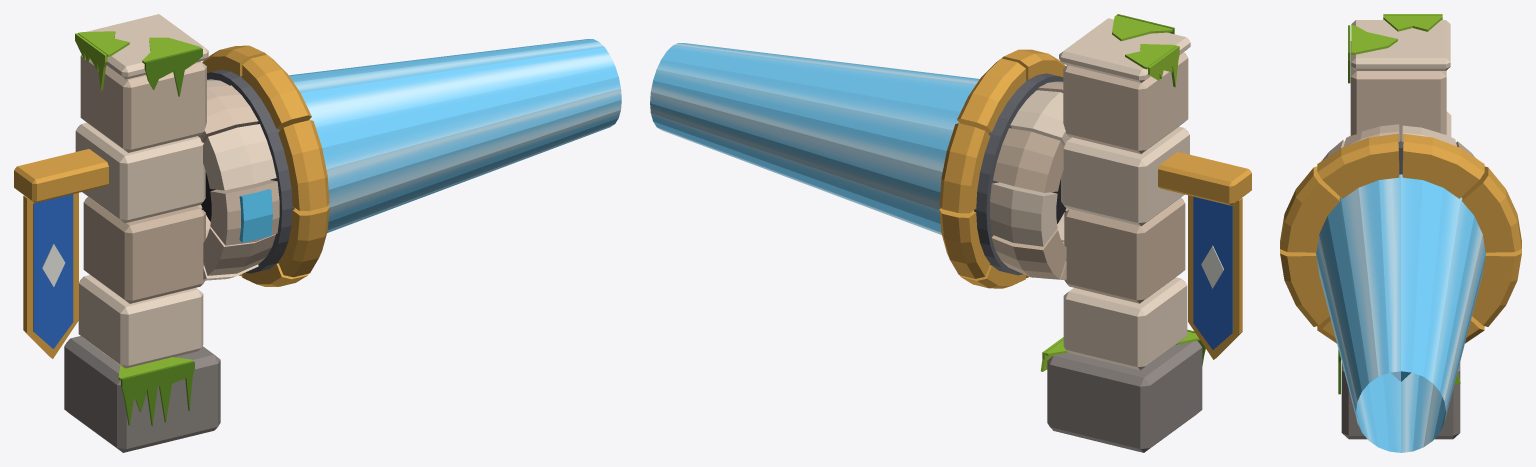
File: Ventilador.fbx
3 renders of one model, left to right at view 1: azimuth 30°, elevation 25°; view 2: azimuth 150°, elevation 25°; view 3: azimuth 270°, elevation 25°, orthographic.
Visible parts, largest first — view 1: Ventilador, Ventilador_Vento; view 2: Ventilador, Ventilador_Vento; view 3: Ventilador_Vento, Ventilador.
Boxes of the visible parts, x1,y1,x2,y2 form: Ventilador: (14, 14, 329, 452); Ventilador_Vento: (289, 39, 621, 232); Ventilador: (939, 14, 1251, 452); Ventilador_Vento: (650, 43, 979, 234); Ventilador_Vento: (1316, 174, 1485, 452); Ventilador: (1280, 14, 1521, 439).
Size of the model in its own units: 5.55 by 3.54 by 2.04.
